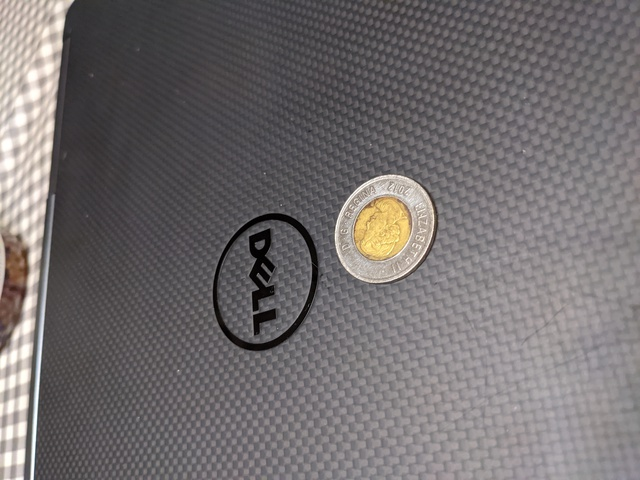twonie: (335, 178, 446, 287)
